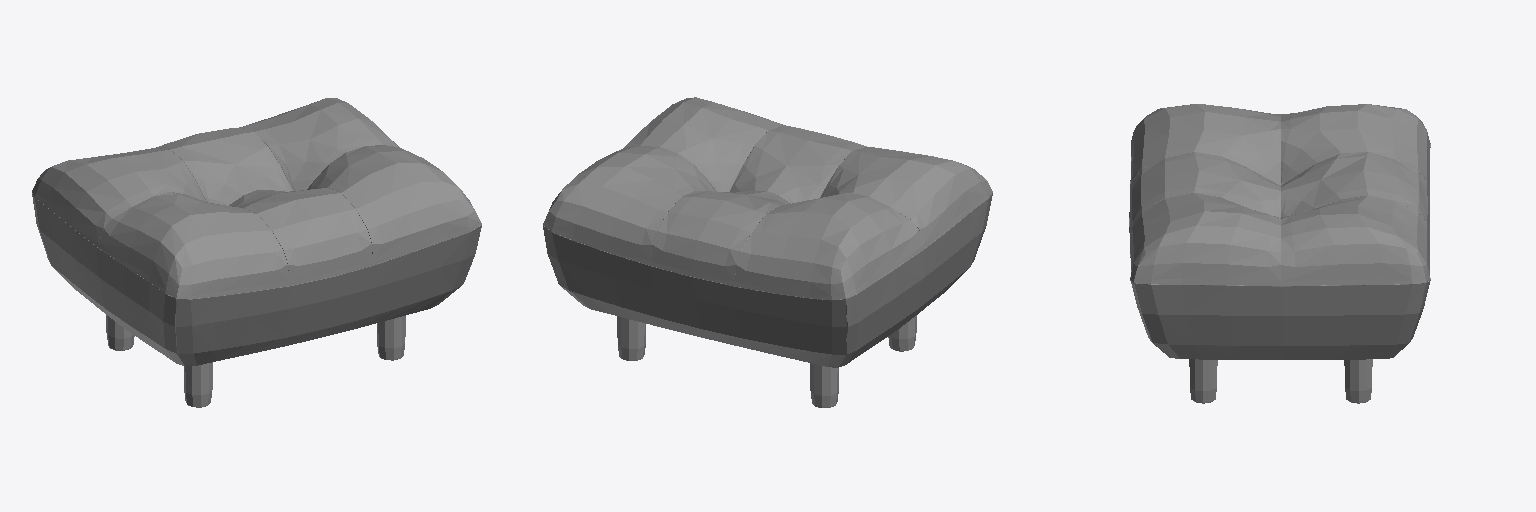
File: design8.obj
3 renders of one model, left to right at view 1: azimuth 30°, elevation 25°; view 2: azimuth 150°, elevation 25°; view 3: azimuth 270°, elevation 25°, orthographic.
Parts seen in each view (by area): view 1: Box040, Cylinder001; view 2: Box040, Cylinder001; view 3: Box040, Cylinder001.
Boxes of the visible parts, x1,y1,x2,y2 form: Box040: [32, 98, 481, 366]; Cylinder001: [106, 315, 405, 407]; Box040: [543, 97, 992, 367]; Cylinder001: [617, 315, 916, 407]; Box040: [1129, 104, 1430, 359]; Cylinder001: [1189, 359, 1372, 403].
Bounding box in the file's own units: 792 × 457 × 653.